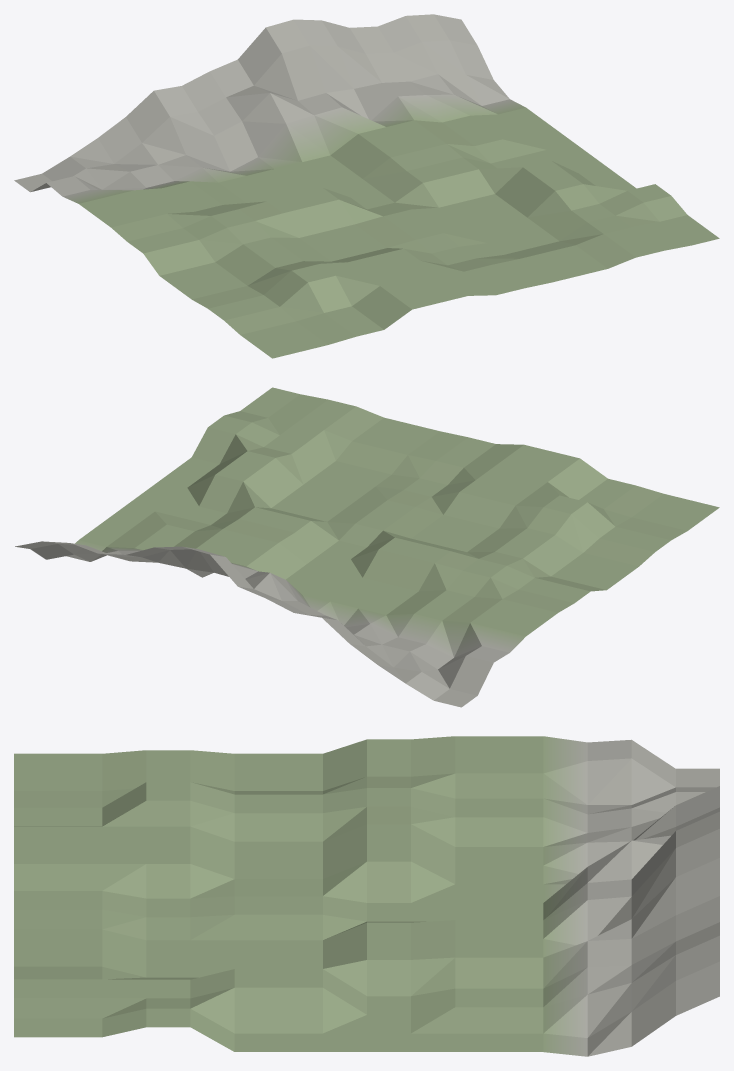
The picture shows the model from 3 angles, top to bottom: view 1: azimuth 30°, elevation 25°; view 2: azimuth 150°, elevation 25°; view 3: azimuth 270°, elevation 25°; orthographic projection. The views are drawn at different scales.
Bounding box in the file's own units: 32 × 6.33 × 32.
